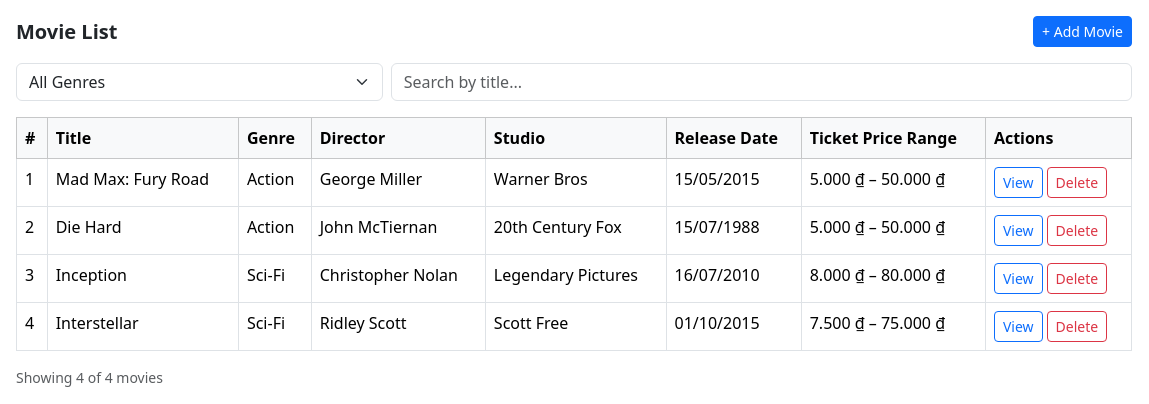
Test case: MovieList — TODO-07 › TODO-07: typing in search filters movies by title
The width and height of the screenshot is (1149, 404).
Type "Die Hard" into the field with placeholder "Search by title..." at (761, 82), box top-left (391, 63), bottom-right (1132, 101)
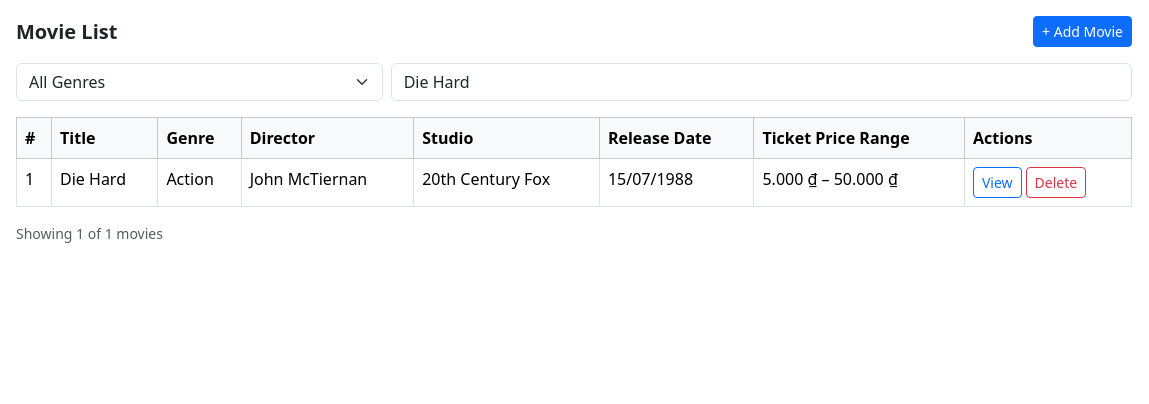
Expected: the text "Die Hard" is shown, top-left (52, 158), bottom-right (158, 206)
Now the text "Mad Max: Fury Road" is gone
